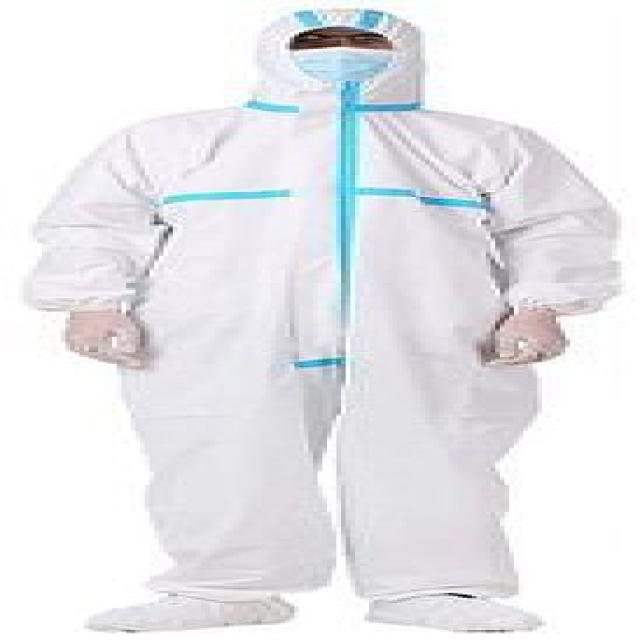Coverall: (14, 3, 621, 635)
Mask: (257, 47, 444, 93)
